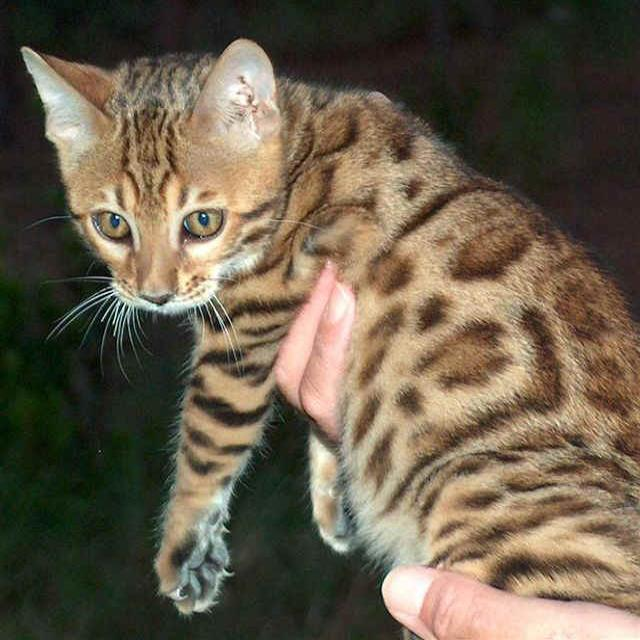Bengal: (13, 35, 299, 325)
